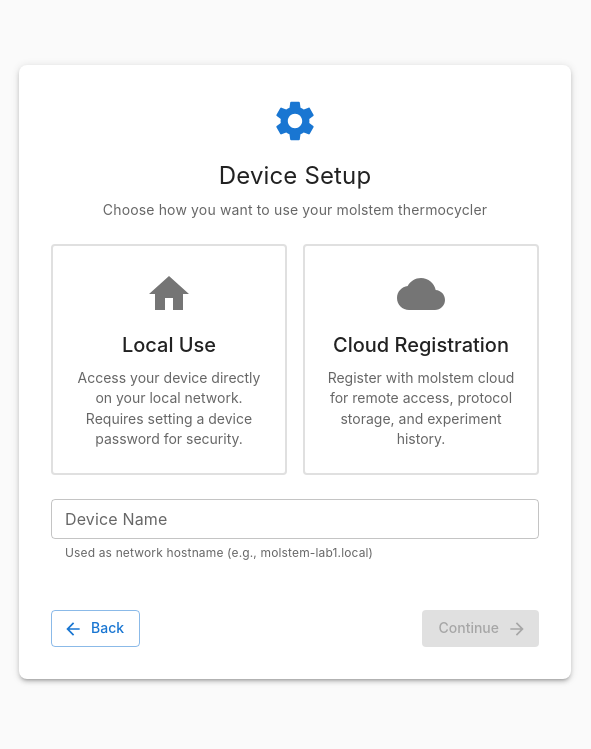
Test: SetupModePage › hides password fields when Cloud mode is selected
The width and height of the screenshot is (591, 749).
Note: First select Local to show password fields
Click the heading "Local Use".
click(169, 346)  # box [122,334,216,358]
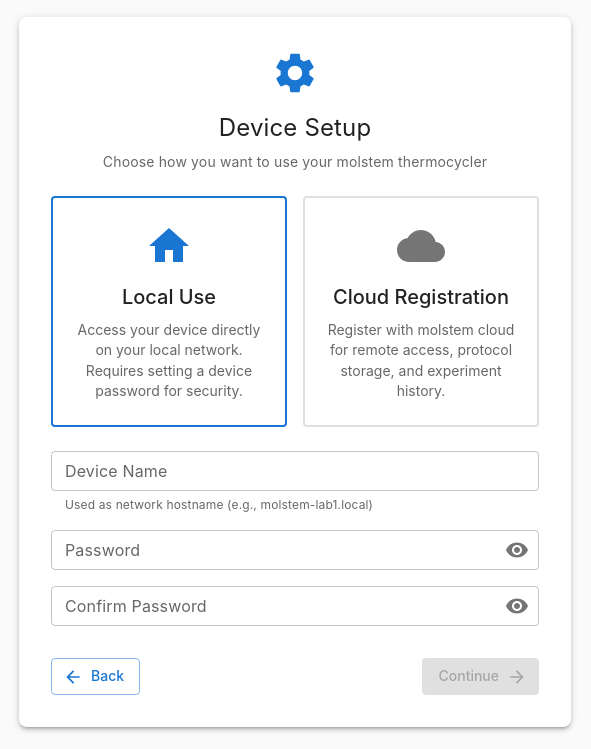
Expected: the password field labelled "Password" is shown, [51,530,489,570]
Note: Then select Cloud
Click the heading "Cloud Registration".
click(421, 298)  # box [321,282,521,314]
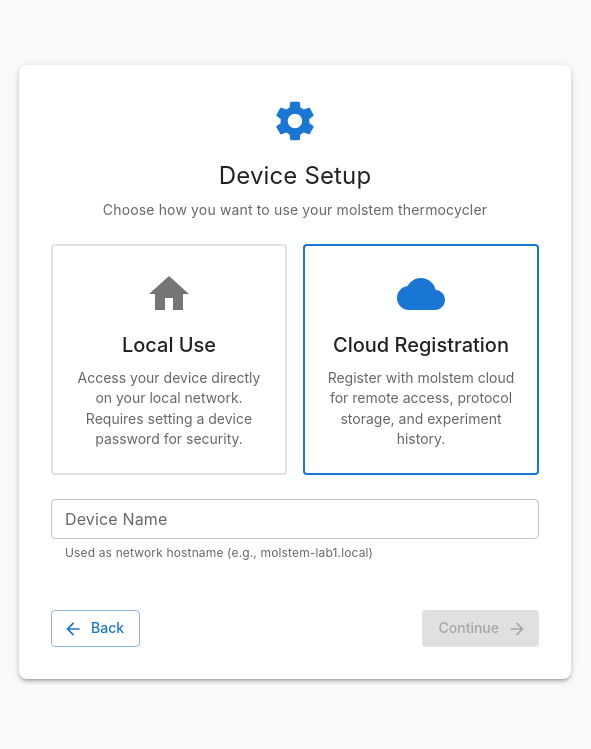
Expected: the label labelled "Password" is gone
